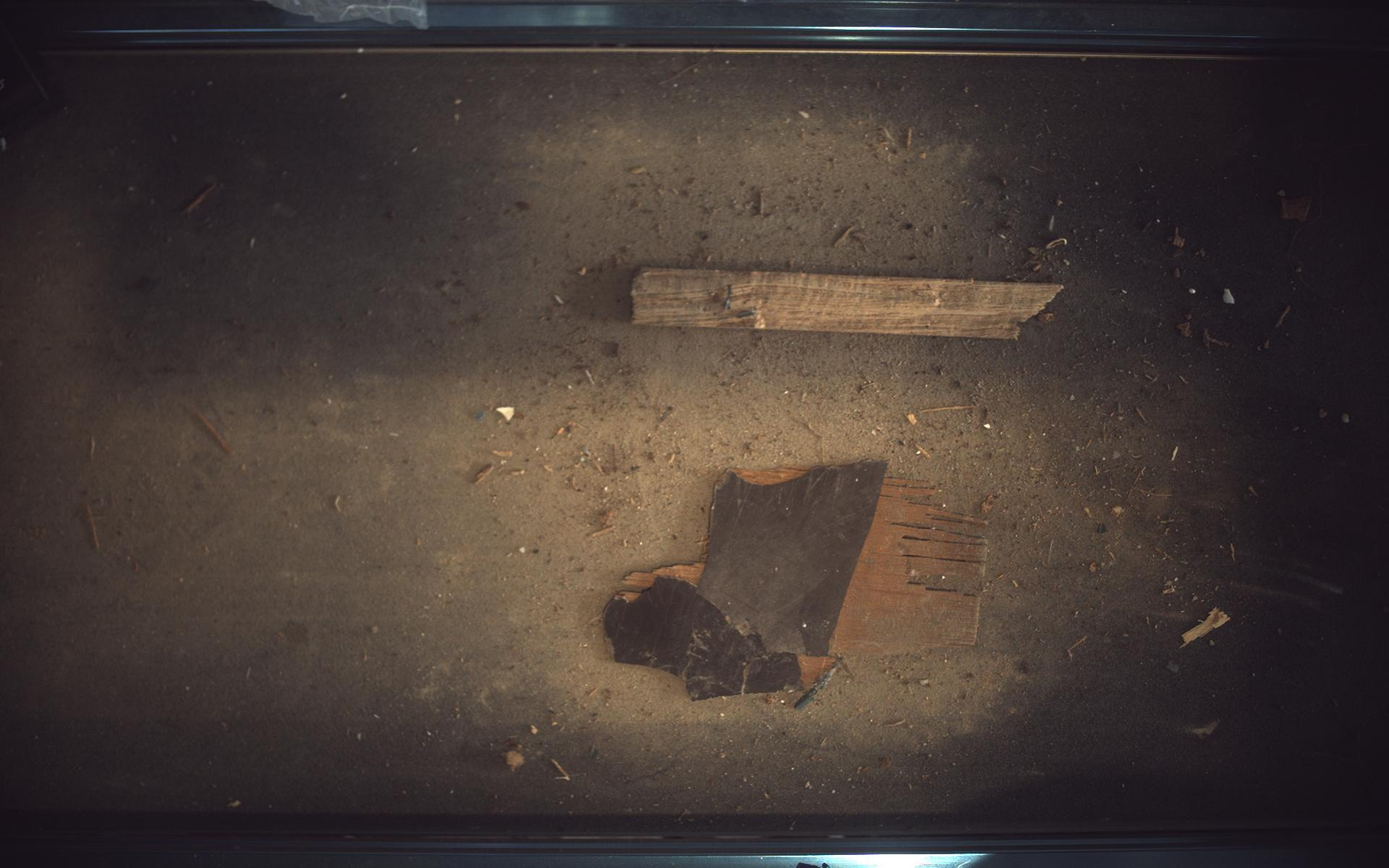wood: (604, 461, 988, 701), (632, 268, 1063, 339)
